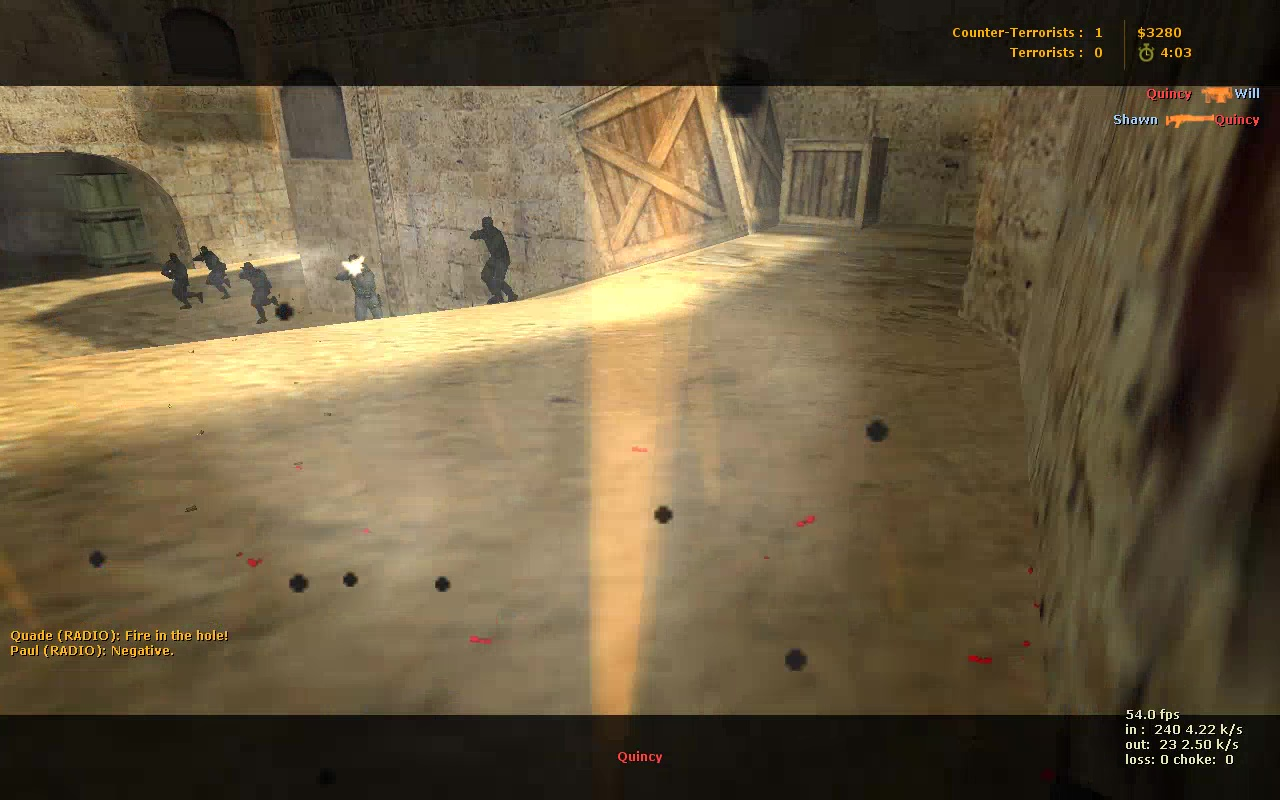ct: (469, 214, 519, 305), (334, 252, 387, 321), (239, 262, 281, 326), (198, 244, 237, 306), (162, 256, 202, 310)
